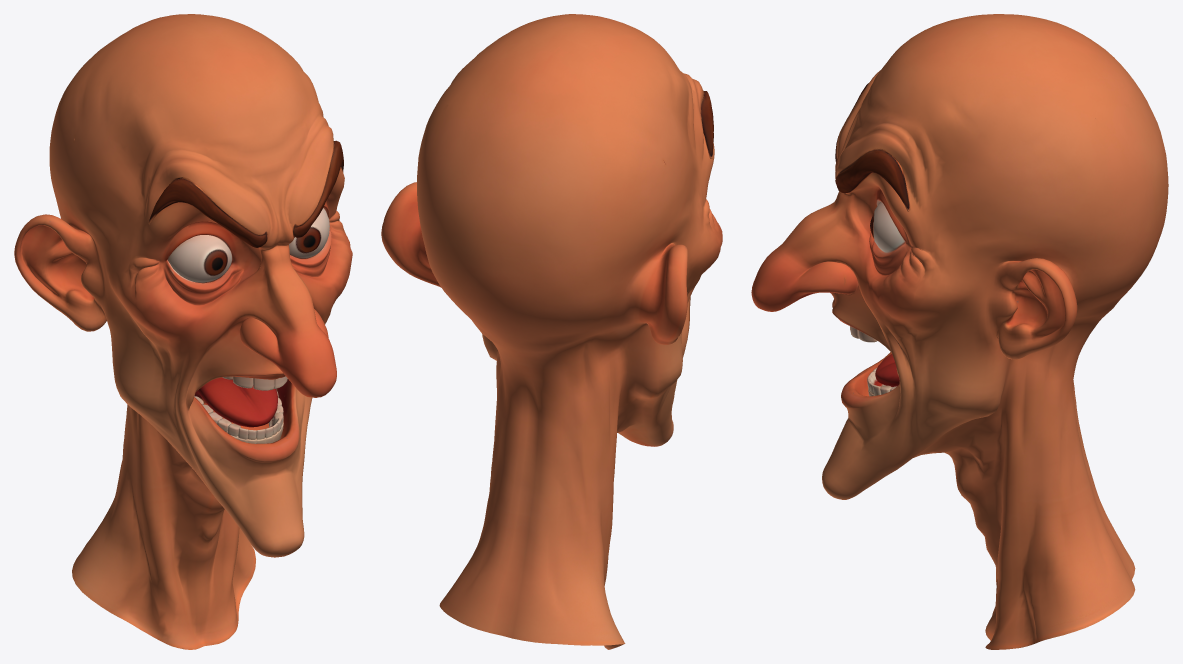
The model's file is head.glb.
The picture shows the model from 3 angles, left to right: view 1: azimuth 30°, elevation 25°; view 2: azimuth 150°, elevation 25°; view 3: azimuth 270°, elevation 25°; orthographic projection.
Visible parts, largest first — view 1: tripo_node_d8a007b1-f96c-49d6-ad2a-f5111169295b; view 2: tripo_node_d8a007b1-f96c-49d6-ad2a-f5111169295b; view 3: tripo_node_d8a007b1-f96c-49d6-ad2a-f5111169295b.
Part boxes in pixels (x1,y1,x2,y2): tripo_node_d8a007b1-f96c-49d6-ad2a-f5111169295b: [14, 14, 352, 649]; tripo_node_d8a007b1-f96c-49d6-ad2a-f5111169295b: [381, 14, 722, 649]; tripo_node_d8a007b1-f96c-49d6-ad2a-f5111169295b: [751, 14, 1168, 649].
Size of the model in its own units: 0.5151 by 0.9995 by 0.6128.
Materials: 1 (1 with a texture image).
